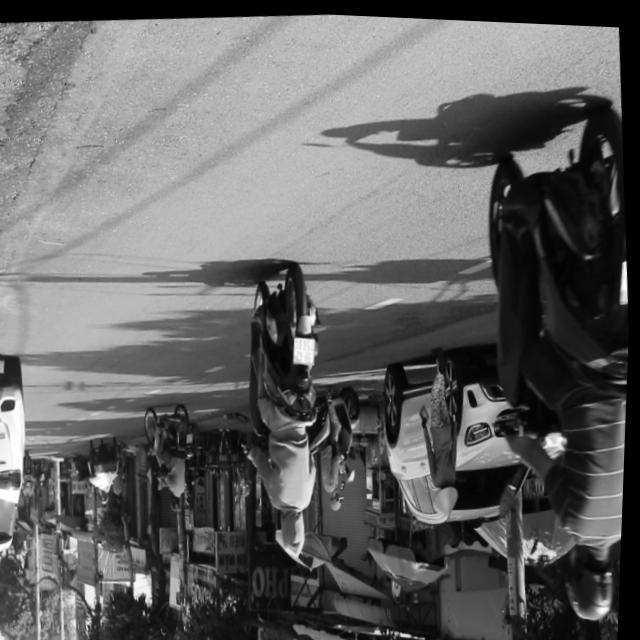helmet: (564, 534, 624, 618), (278, 504, 313, 556)
licenseplate: (462, 88, 638, 625), (234, 256, 341, 561)
nohelmet: (292, 333, 317, 361), (620, 255, 630, 299)
